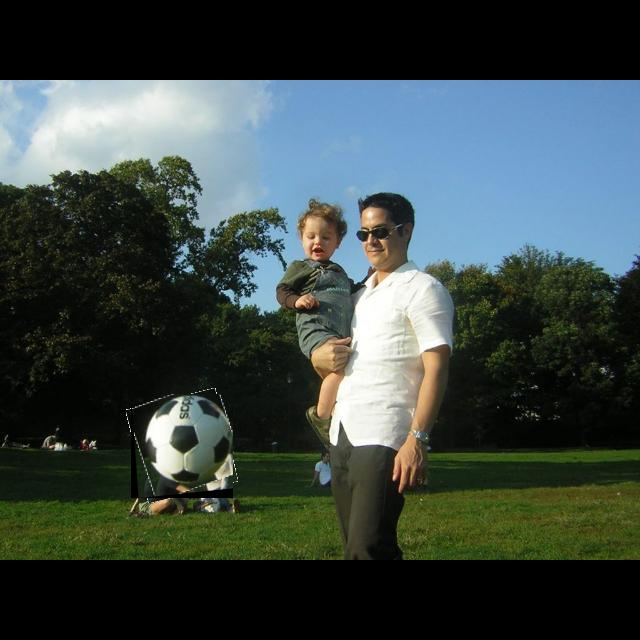Football: (131, 394, 233, 498)
